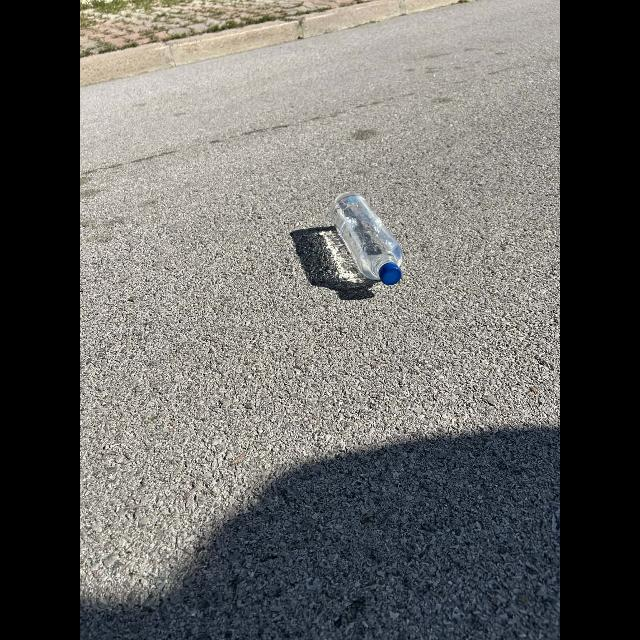trash: (321, 180, 417, 300)
